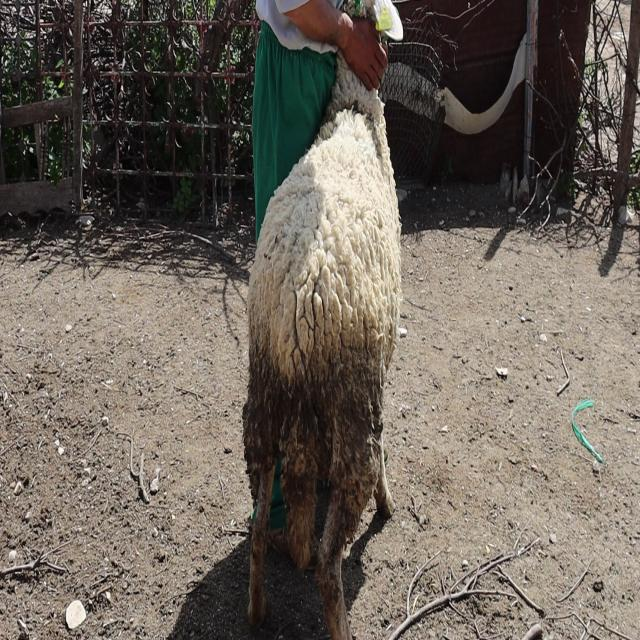Score_5: (242, 50, 402, 639)
